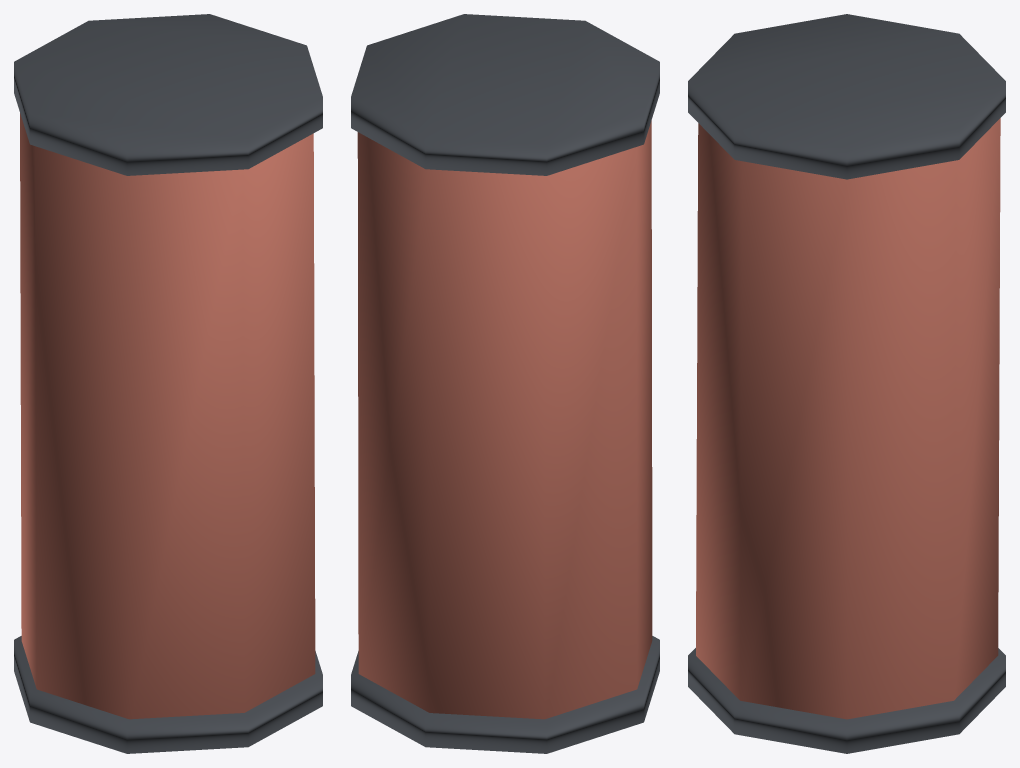
The model's file is MainGene_Red.fbx.
The picture shows the model from 3 angles, left to right: view 1: azimuth 30°, elevation 25°; view 2: azimuth 150°, elevation 25°; view 3: azimuth 270°, elevation 25°; orthographic projection.
Visible parts, largest first — view 1: Gene:pCylinder1, Gene:pCylinder2, Gene:pCylinder3; view 2: Gene:pCylinder1, Gene:pCylinder2, Gene:pCylinder3; view 3: Gene:pCylinder1, Gene:pCylinder2, Gene:pCylinder3.
Boxes of the visible parts, box(x1,y1,x2,y2) form: Gene:pCylinder1: box(20, 113, 315, 719); Gene:pCylinder2: box(14, 14, 322, 175); Gene:pCylinder3: box(14, 636, 322, 753); Gene:pCylinder1: box(357, 120, 652, 719); Gene:pCylinder2: box(351, 14, 659, 175); Gene:pCylinder3: box(351, 636, 659, 753); Gene:pCylinder1: box(696, 118, 1000, 719); Gene:pCylinder2: box(688, 14, 1005, 179); Gene:pCylinder3: box(688, 648, 1005, 753).
Size of the model in its own units: 1.16 by 2.44 by 1.16.
